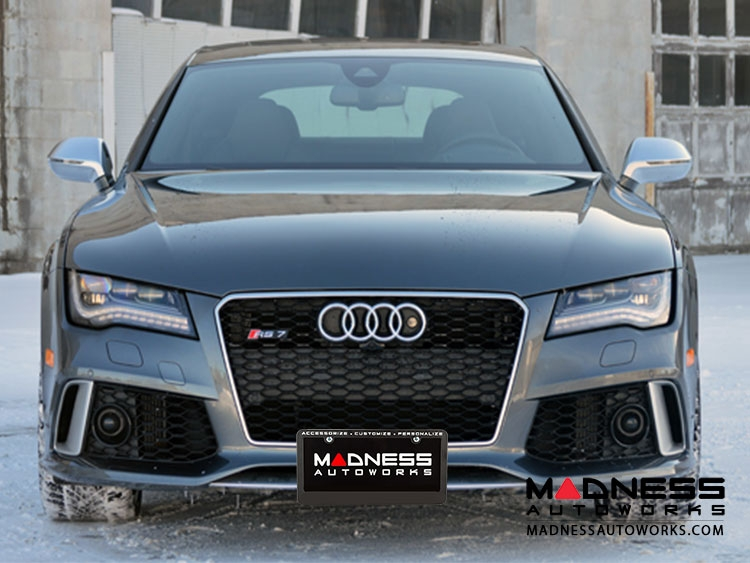audi: (310, 301, 434, 349)
